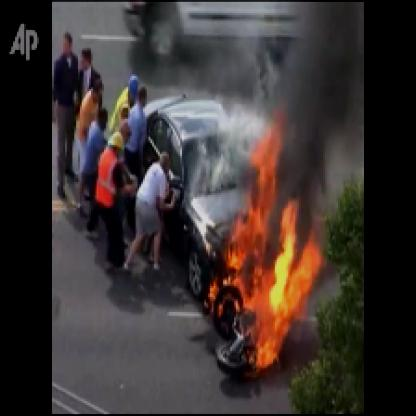Fire: (204, 124, 323, 381)
Smoke: (290, 6, 360, 182)
